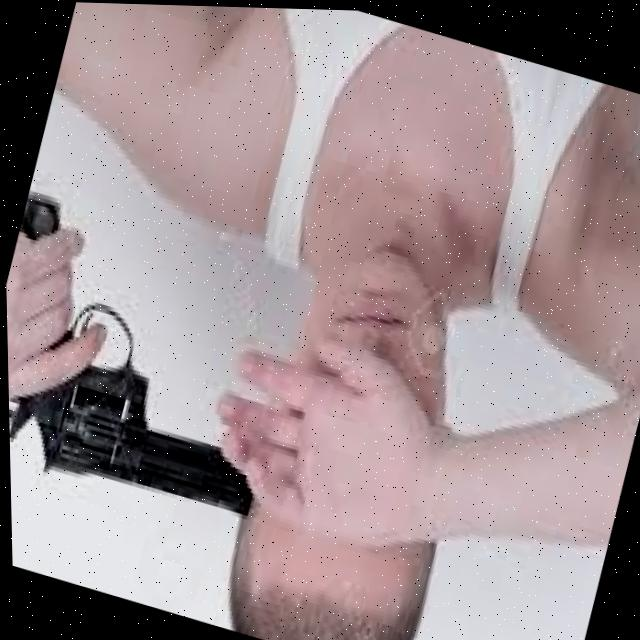pistol: (5, 279, 288, 527)
